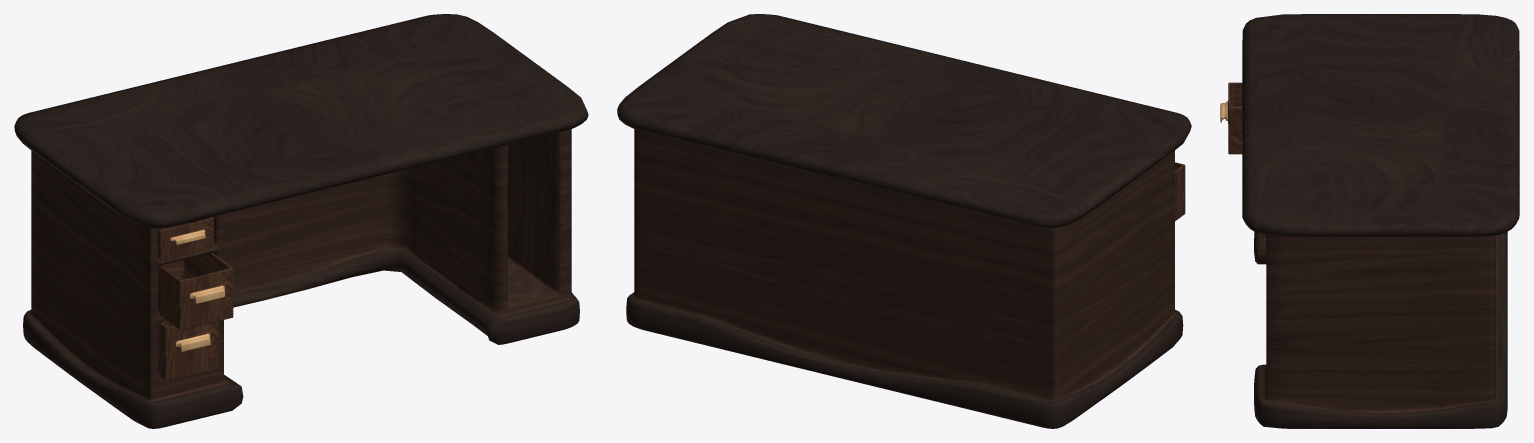
Rendered from Robbers_desk.fbx.
3 renders of one model, left to right at view 1: azimuth 30°, elevation 25°; view 2: azimuth 150°, elevation 25°; view 3: azimuth 270°, elevation 25°, orthographic. The views are drawn at different scales.
Parts seen in each view (by area): view 1: TellerDesk, DeskDraw_2, DeskDraw_1, DeskDraw_3; view 2: TellerDesk, DeskDraw_2; view 3: TellerDesk, DeskDraw_2.
Boxes of the visible parts, <box> form: TellerDesk: <box>14,14,588,428</box>; DeskDraw_2: <box>158,253,233,330</box>; DeskDraw_1: <box>158,320,218,381</box>; DeskDraw_3: <box>157,217,213,260</box>; TellerDesk: <box>617,14,1191,428</box>; DeskDraw_2: <box>1175,162,1185,220</box>; TellerDesk: <box>1242,14,1519,428</box>; DeskDraw_2: <box>1220,82,1242,154</box>.
Size of the model in its own units: 60.24 by 27.07 by 35.33.
